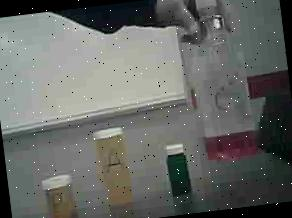Bottle A: (84, 118, 150, 213)
Bottle B: (36, 165, 83, 218)
Bottle C: (158, 138, 201, 204)
hazard: (172, 0, 284, 172)
